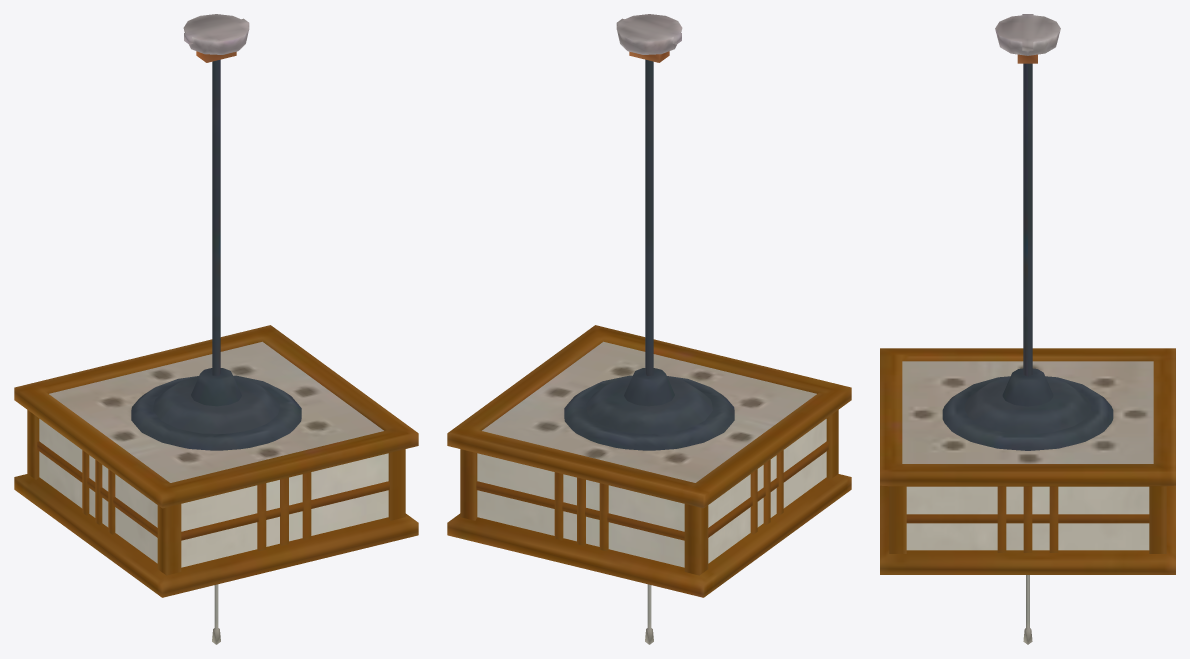
3 renders of one model, left to right at view 1: azimuth 30°, elevation 25°; view 2: azimuth 150°, elevation 25°; view 3: azimuth 270°, elevation 25°, orthographic.
Bounding box in the file's own units: 8.53 × 19.53 × 8.53.
1 material, 1 textured.
